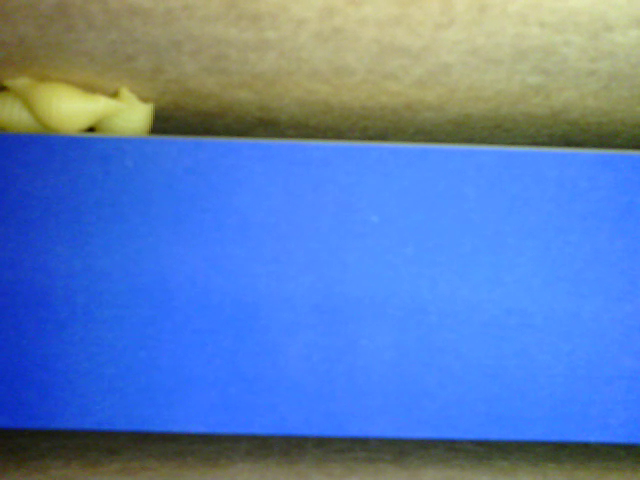shell: (1, 76, 128, 138), (89, 86, 151, 137), (1, 89, 57, 135)
